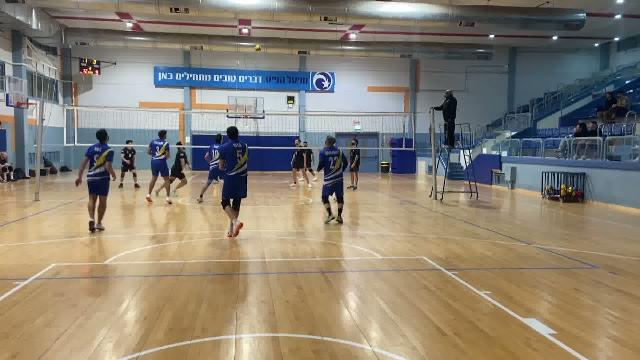ball: (253, 43, 262, 54)
